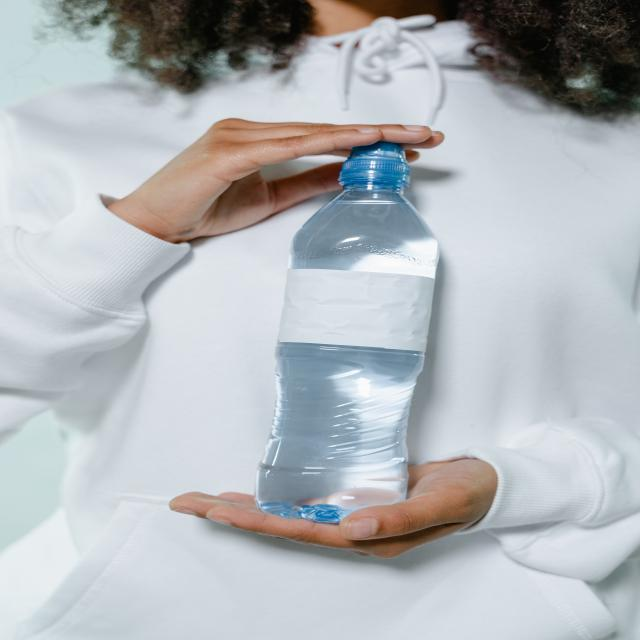bottle: (250, 152, 440, 532)
